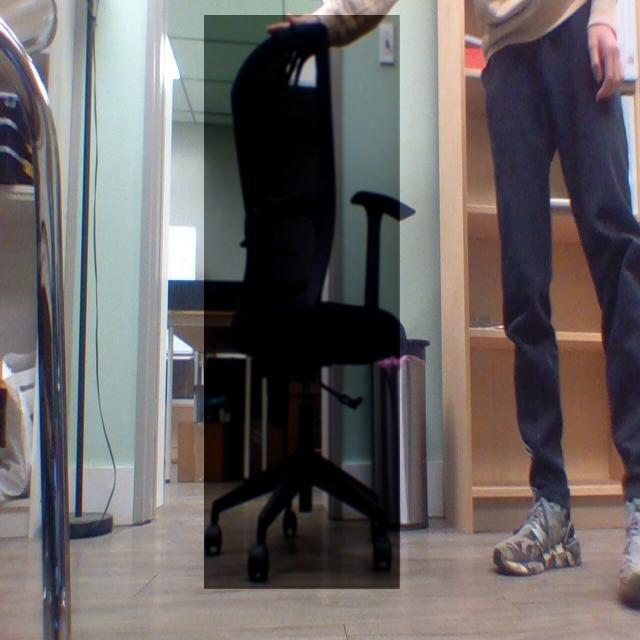chair: (186, 13, 421, 593)
